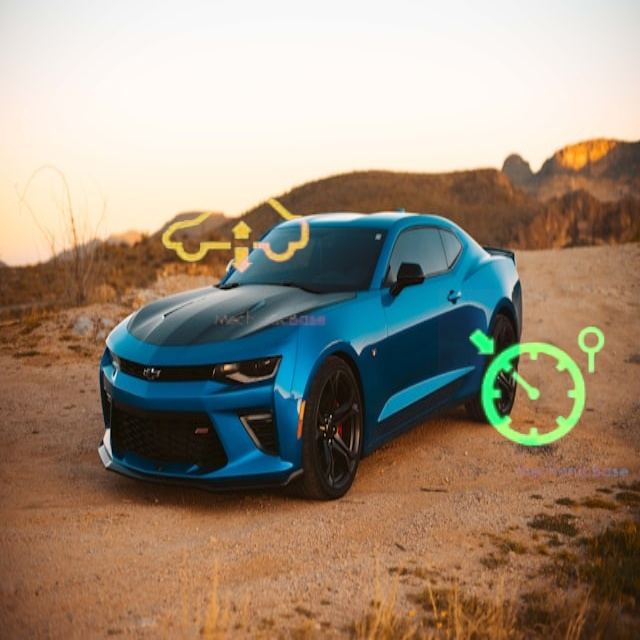symbol: (438, 289, 636, 487), (137, 139, 333, 335)
